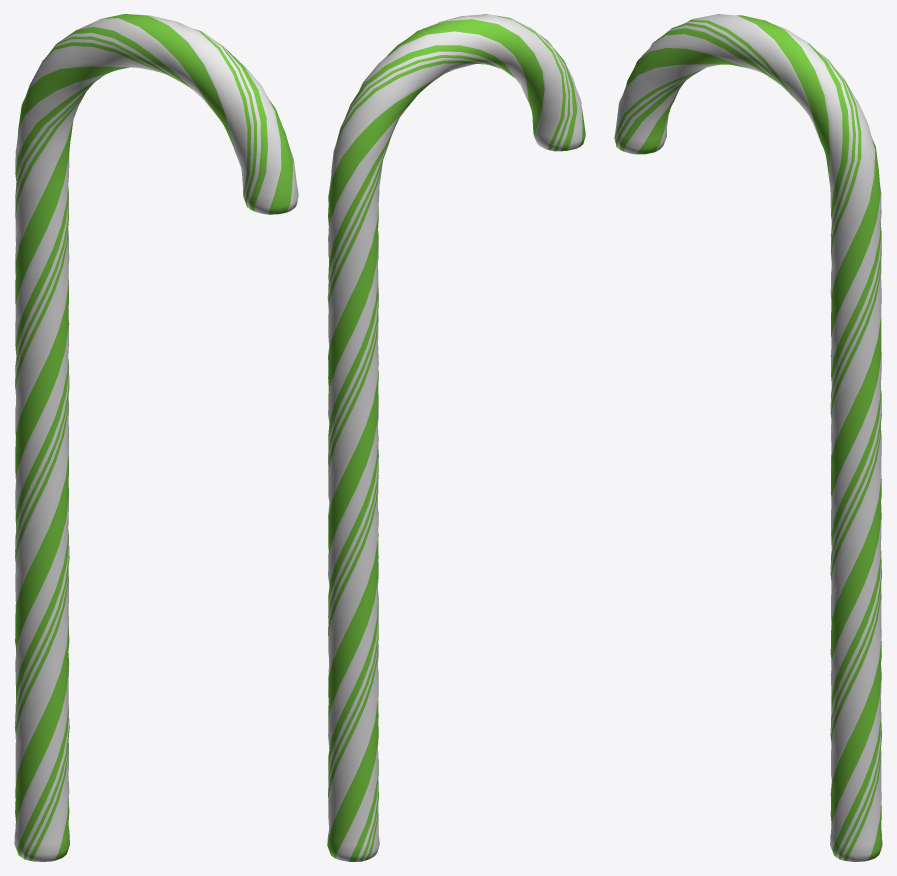
File: Polkagris_10.glb
The picture shows the model from 3 angles, left to right: view 1: azimuth 90°, elevation 25°; view 2: azimuth 150°, elevation 25°; view 3: azimuth 270°, elevation 25°; orthographic projection. The views are drawn at different scales.
Parts seen in each view (by area): view 1: Polkagrisar.010; view 2: Polkagrisar.010; view 3: Polkagrisar.010.
Boxes of the visible parts, left/top/right/bottom form: Polkagrisar.010: left=14, top=14, right=298, bottom=861; Polkagrisar.010: left=327, top=14, right=585, bottom=861; Polkagrisar.010: left=614, top=14, right=882, bottom=861.
Size of the model in its own units: 0.4642 by 2.48 by 0.7441.
